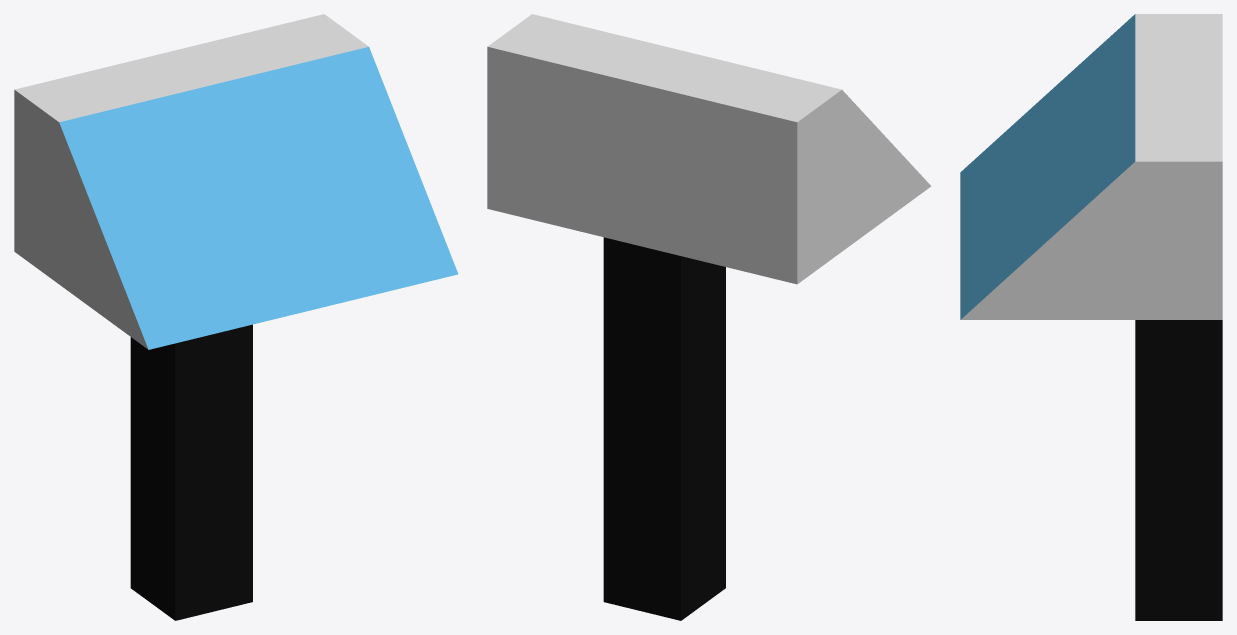
The model's file is Stand.fbx.
The picture shows the model from 3 angles, left to right: view 1: azimuth 30°, elevation 25°; view 2: azimuth 150°, elevation 25°; view 3: azimuth 270°, elevation 25°; orthographic projection. The views are drawn at different scales.
Parts seen in each view (by area): view 1: Cube; view 2: Cube; view 3: Cube.
Part boxes in pixels (x1,y1,x2,y2): Cube: [14, 14, 458, 620]; Cube: [487, 14, 931, 620]; Cube: [960, 14, 1222, 620].
Size of the model in its own units: 400 by 650 by 300.
